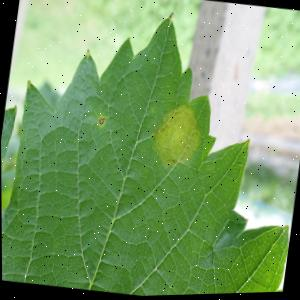Folha: (0, 0, 300, 300)
Fungo: (149, 101, 207, 174), (97, 118, 104, 127)
